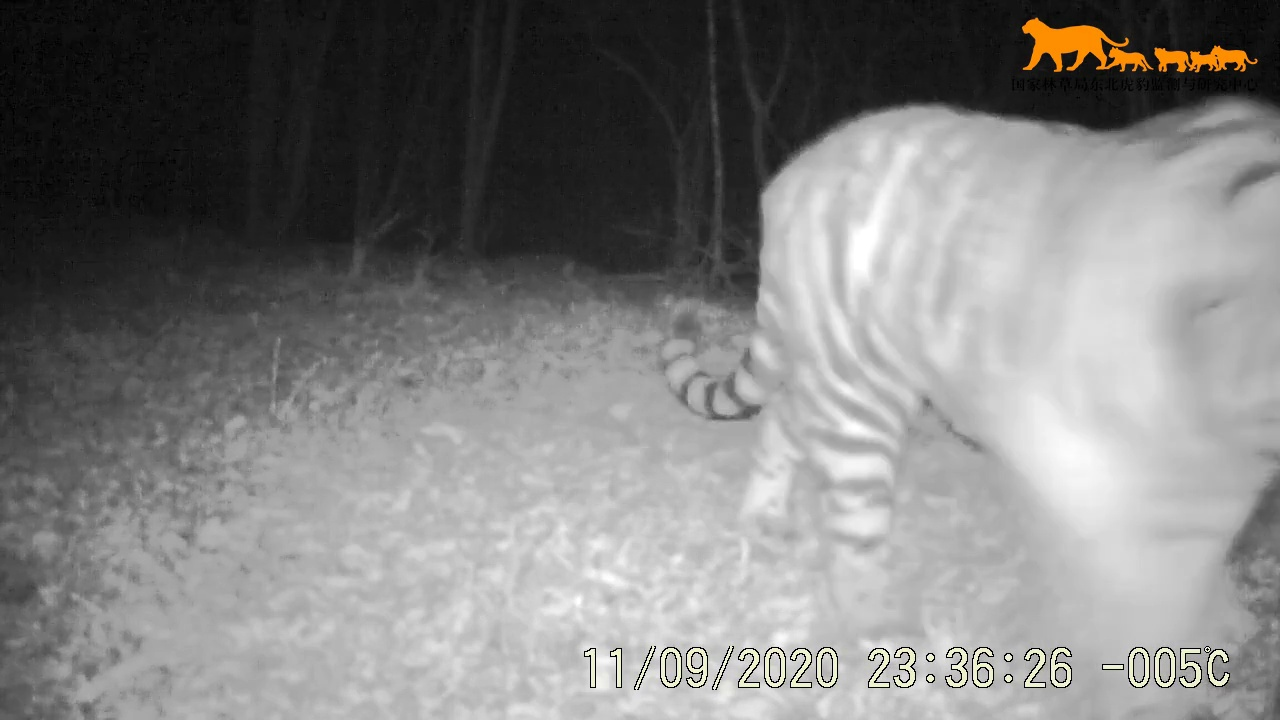Tiger: (615, 75, 1280, 635)
